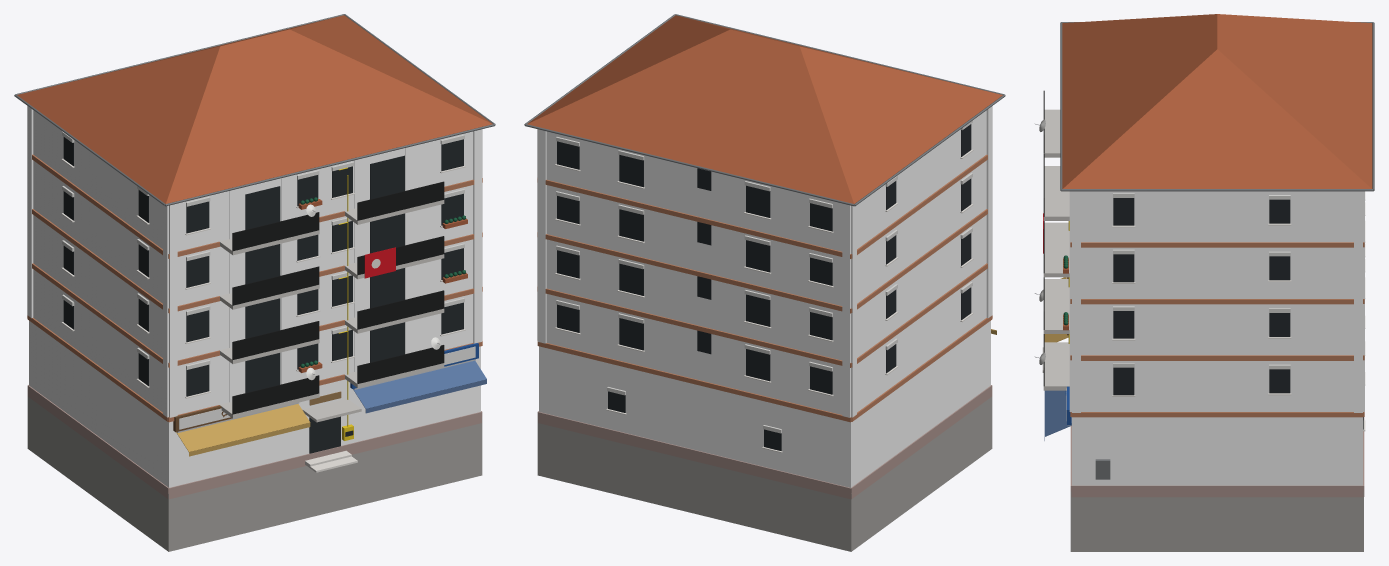
The model's file is bina_03.glb.
3 views of the same model, side by side, from view 1: azimuth 30°, elevation 25°; view 2: azimuth 150°, elevation 25°; view 3: azimuth 270°, elevation 25° (orthographic). The views are drawn at different scales.
Visible parts, largest first — view 1: P03_Apt_Dukkanli_D_L1.001; view 2: P03_Apt_Dukkanli_D_L1.001; view 3: P03_Apt_Dukkanli_D_L1.001.
Part boxes in pixels (x1,y1,x2,y2): P03_Apt_Dukkanli_D_L1.001: (14, 14, 495, 551); P03_Apt_Dukkanli_D_L1.001: (524, 14, 1005, 551); P03_Apt_Dukkanli_D_L1.001: (1034, 14, 1374, 551).
Bounding box in the file's own units: 19.12 × 23.39 × 16.36.
